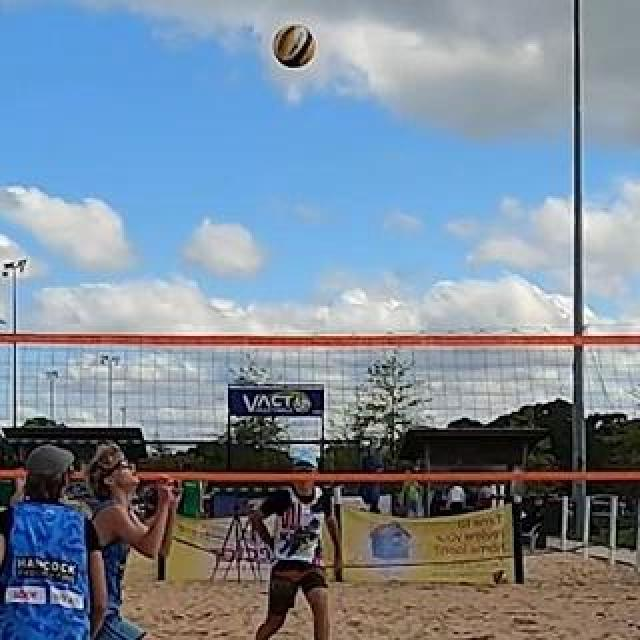volleyball: (271, 24, 315, 68), (493, 569, 509, 585)
